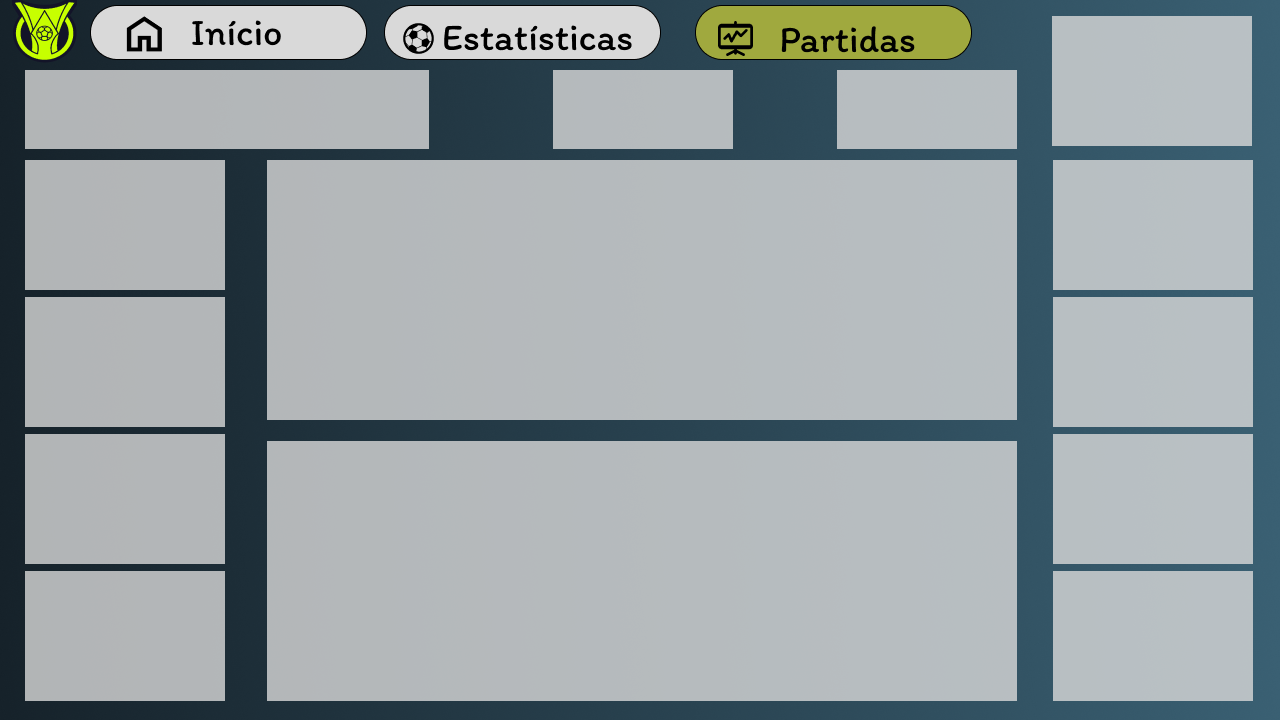

Layout of this report page (visuals, bound fields, positions):
{"tool":"powerbi","page":{"name":"Partidas","canvas":[1280,720],"ordinal":2},"visuals":[{"type":"slicer","fields":{"Values":["Fgeral.data.Variation.Hierarquia de datas.Ano","Festatisticasfull.clube"]},"box":[31.9,76.3,388.4,70],"z":0},{"type":"card","title":"Chutes a gol","fields":{"Values":["Medidas.Média de chutes a gol"]},"box":[31.9,304.1,184.4,126.8],"z":1000},{"type":"card","title":"Posse de bola","fields":{"Values":["Medidas.Média posse de bola"]},"box":[1058.7,16,196,119.7],"z":2000},{"type":"card","title":"Média de chutes","fields":{"Values":["Medidas.Média de chutes"]},"box":[31.9,170.2,184.4,120.6],"z":3000},{"type":"card","title":"Passes","fields":{"Values":["Medidas.Média de passes"]},"box":[31.9,433.6,184.4,121.5],"z":4000},{"type":"card","title":"Precisão dos passes","fields":{"Values":["Medidas.Precisão dos passes"]},"box":[31.9,572.8,194.2,119.7],"z":5000},{"type":"card","title":"Faltas","fields":{"Values":["Medidas.Média de Falta por Partida"]},"box":[1058.7,433.6,196,121.5],"z":6000},{"type":"card","title":"Cartões","fields":{"Values":["Medidas.Média de Cartão Amarelo"]},"box":[1058.7,304.1,196,118.8],"z":7000},{"type":"card","title":"Impedimentos","fields":{"Values":["Medidas.Média de Impedimentos"]},"box":[1058.7,158.7,196,126.8],"z":8000},{"type":"card","title":"Escanteios","fields":{"Values":["Medidas.Média de Escanteios"]},"box":[1058.7,571,196,121.5],"z":9000},{"type":"clusteredColumnChart","title":"Clubes que mais marcaram gols","fields":{"Category":["Dgols.clube"],"Y":["Medidas.Total de Gols Marcados"]},"box":[263.3,446,766.1,246.5],"z":10000},{"type":"funnel","title":"Principais Artilheiros","fields":{"Category":["Dgols.atleta"],"Y":["Medidas.Total de Gols Marcados"]},"box":[270.4,158.7,733.3,263.3],"z":11000},{"type":"card","title":"Gols marcados","fields":{"Values":["Medidas.Total de Gols Marcados"]},"box":[561.3,69.2,161.4,77.1],"z":12000},{"type":"card","title":"Gols por rodada","fields":{"Values":["Medidas.Gols por rodada"]},"box":[837,69.2,184.4,77.1],"z":13000},{"type":"actionButton","box":[395.5,8,258.9,48.8],"z":14000},{"type":"actionButton","box":[96.7,8,258.9,48.8],"z":15000}]}

Visuals, with their boxes in screenshot pixels (x1, y1, x2, y2), scaled from the page's 1280x720 canvas onto the 1280x720 screenshot:
slicer - Fgeral.data.Variation.Hierarquia de datas.Ano x Festatisticasfull.clube: <box>32,76,420,146</box>
"Chutes a gol" card: <box>32,304,216,431</box>
"Posse de bola" card: <box>1059,16,1255,136</box>
"Média de chutes" card: <box>32,170,216,291</box>
"Passes" card: <box>32,434,216,555</box>
"Precisão dos passes" card: <box>32,573,226,692</box>
"Faltas" card: <box>1059,434,1255,555</box>
"Cartões" card: <box>1059,304,1255,423</box>
"Impedimentos" card: <box>1059,159,1255,286</box>
"Escanteios" card: <box>1059,571,1255,692</box>
"Clubes que mais marcaram gols" clusteredColumnChart: <box>263,446,1029,692</box>
"Principais Artilheiros" funnel: <box>270,159,1004,422</box>
"Gols marcados" card: <box>561,69,723,146</box>
"Gols por rodada" card: <box>837,69,1021,146</box>
actionButton: <box>396,8,654,57</box>
actionButton: <box>97,8,356,57</box>
